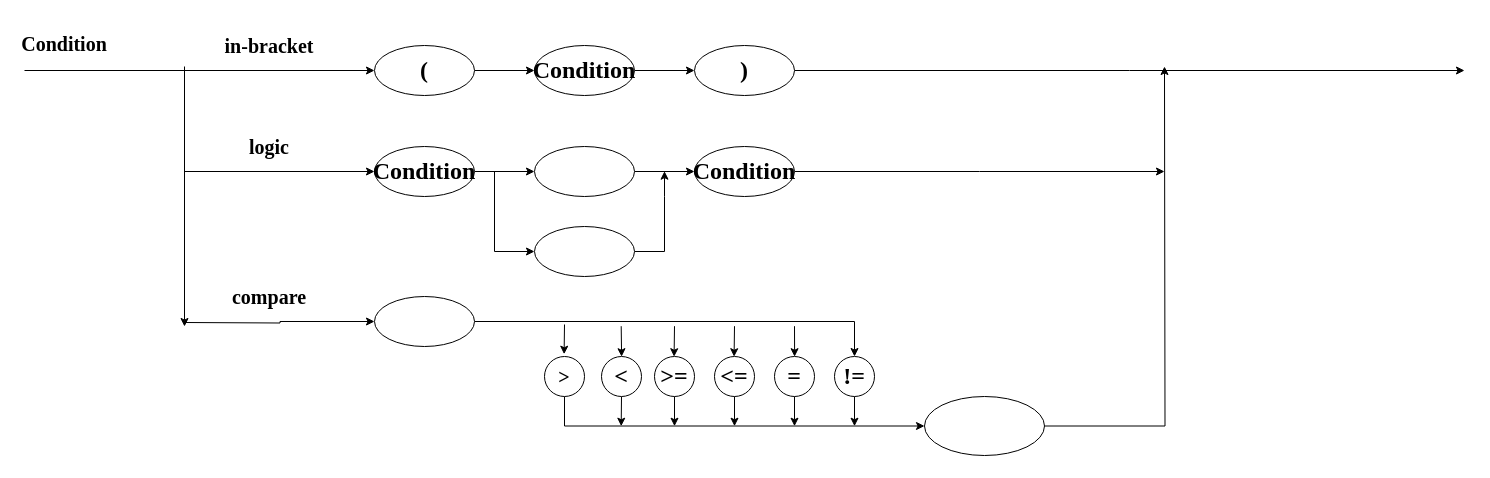
Image size: 1490x478. Some labels were removed from this diagram. The box of each missing label's shape, as (x1, y1, x2, y2) in pixels:
AND: (534, 146, 634, 196)
Expression: (924, 396, 1044, 456)
Keyword: (374, 296, 474, 346)
OR: (534, 226, 634, 276)
